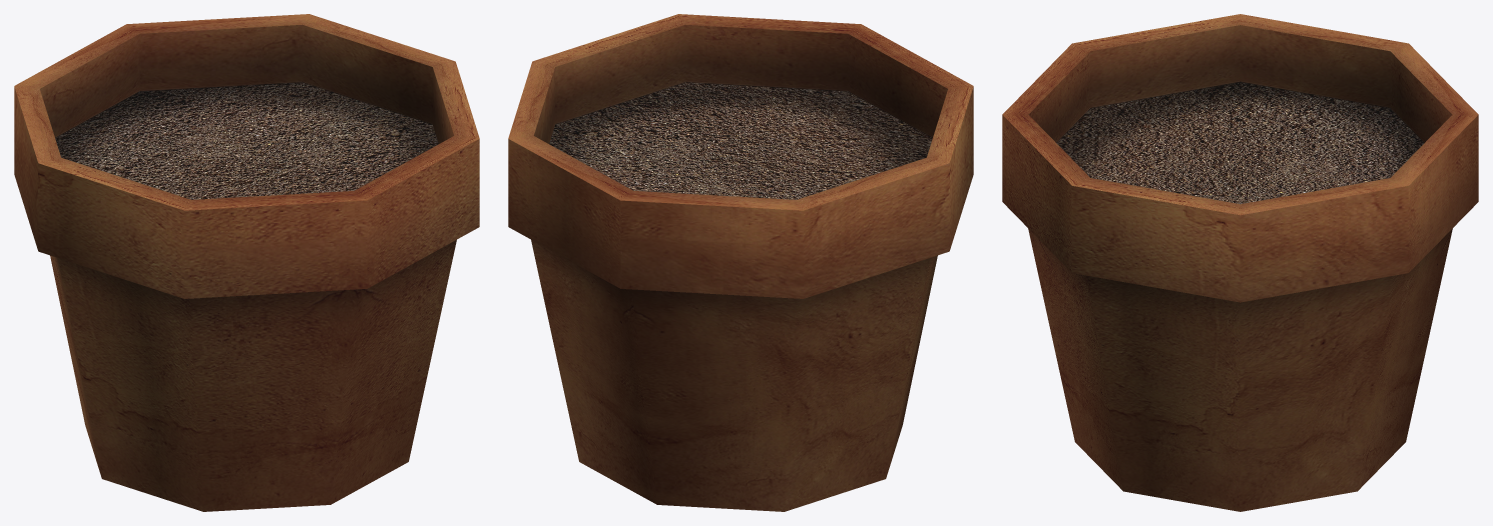
3 renders of one model, left to right at view 1: azimuth 30°, elevation 25°; view 2: azimuth 150°, elevation 25°; view 3: azimuth 270°, elevation 25°, orthographic.
Visible parts, largest first — view 1: _Platpot; view 2: _Platpot; view 3: _Platpot.
Part boxes in pixels (x1,y1,x2,y2): _Platpot: [14, 14, 479, 511]; _Platpot: [508, 14, 973, 511]; _Platpot: [1002, 14, 1478, 511].
Bounding box in the file's own units: 218 × 166 × 218.
